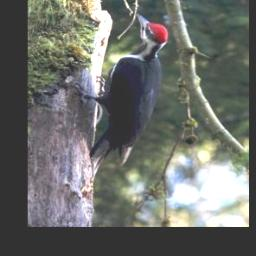Woodpecker: (67, 13, 170, 177)
